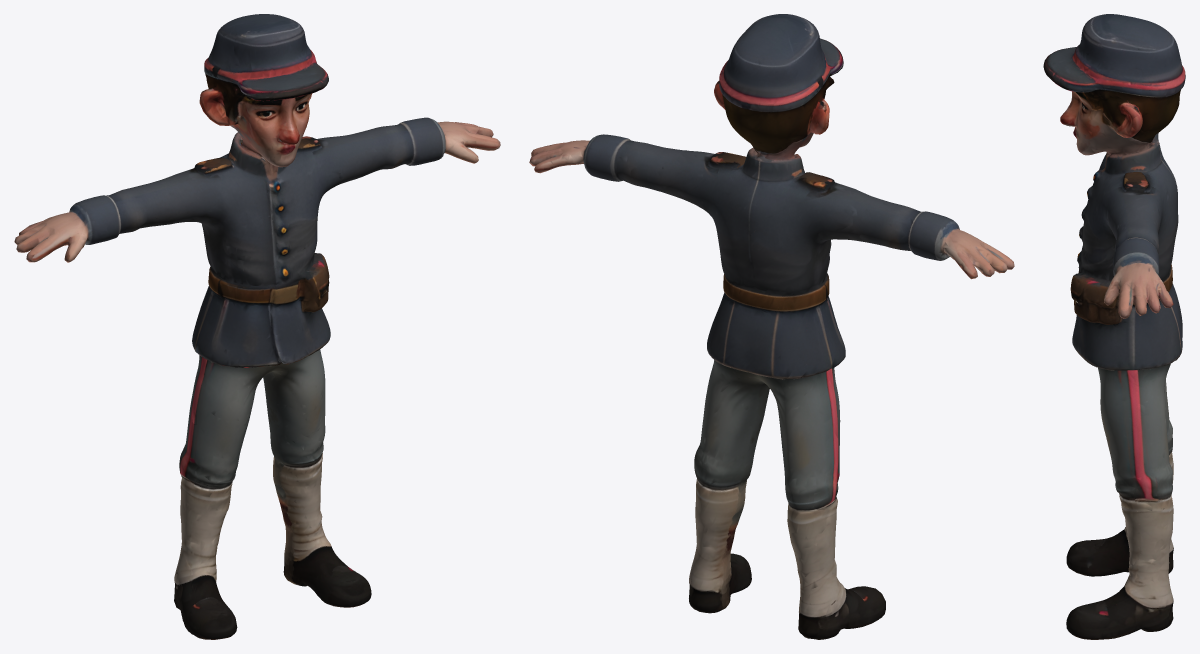
File: soldado_2_mixamo.fbx
The picture shows the model from 3 angles, left to right: view 1: azimuth 30°, elevation 25°; view 2: azimuth 150°, elevation 25°; view 3: azimuth 270°, elevation 25°; orthographic projection.
Parts seen in each view (by area): view 1: soldado_2; view 2: soldado_2; view 3: soldado_2.
Part boxes in pixels (box(x1,y1,x2,y2)): soldado_2: box(14, 14, 500, 639); soldado_2: box(529, 14, 1014, 639); soldado_2: box(1043, 14, 1185, 639).
Bounding box in the file's own units: 145 × 170 × 37.78.
Materials: 1 (1 with a texture image).
